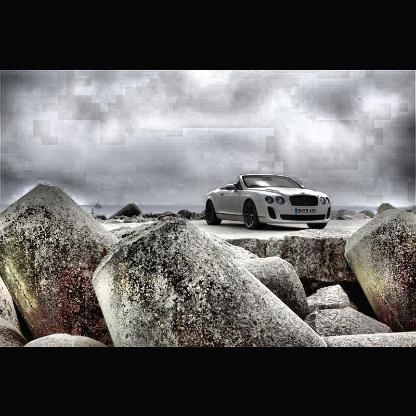Bentley Continental Supersports Conv- Convertible 2012: (206, 174, 333, 230)
